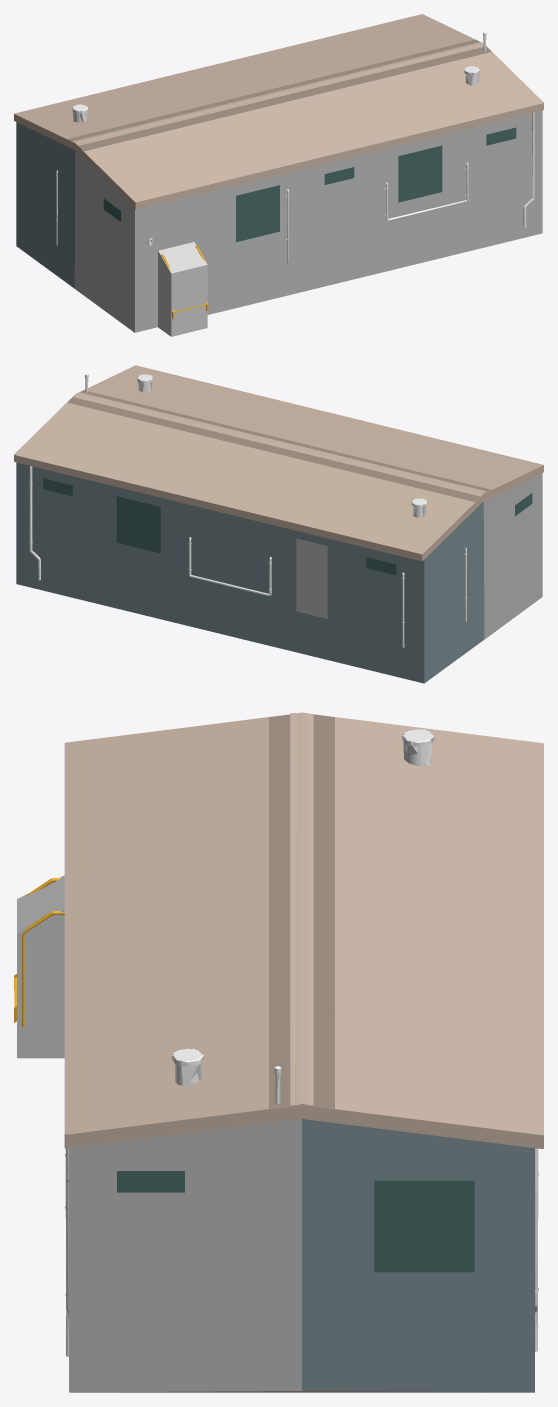
The model's file is hr_building1.dae.
3 renders of one model, top to bottom at view 1: azimuth 30°, elevation 25°; view 2: azimuth 150°, elevation 25°; view 3: azimuth 270°, elevation 25°, orthographic. The views are drawn at different scales.
Parts seen in each view (by area): view 1: Colmesh-1, hr_building1_a300, hr_building1_a150, hr_building1_a030; view 2: Colmesh-1, hr_building1_a150, hr_building1_a300, hr_building1_a030; view 3: hr_building1_a150, Colmesh-1, hr_building1_a300, hr_building1_a030.
Boxes of the visible parts, box(x1,y1,x2,y2) form: Colmesh-1: box(16, 39, 542, 336); hr_building1_a300: box(14, 14, 543, 319); hr_building1_a150: box(15, 20, 543, 268); hr_building1_a030: box(103, 127, 516, 242); Colmesh-1: box(16, 390, 542, 683); hr_building1_a150: box(14, 372, 543, 647); hr_building1_a300: box(14, 365, 543, 647); hr_building1_a030: box(43, 478, 532, 618); hr_building1_a150: box(27, 713, 543, 1356); Colmesh-1: box(17, 714, 534, 1392); hr_building1_a300: box(14, 712, 543, 1356); hr_building1_a030: box(117, 1171, 474, 1272).
Bounding box in the file's own units: 12.17 × 6.91 × 4.63.
